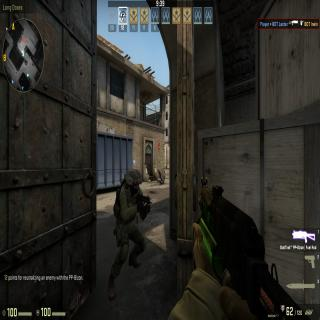CT-Body: (109, 164, 147, 289)
CT-Head: (123, 166, 142, 193)
